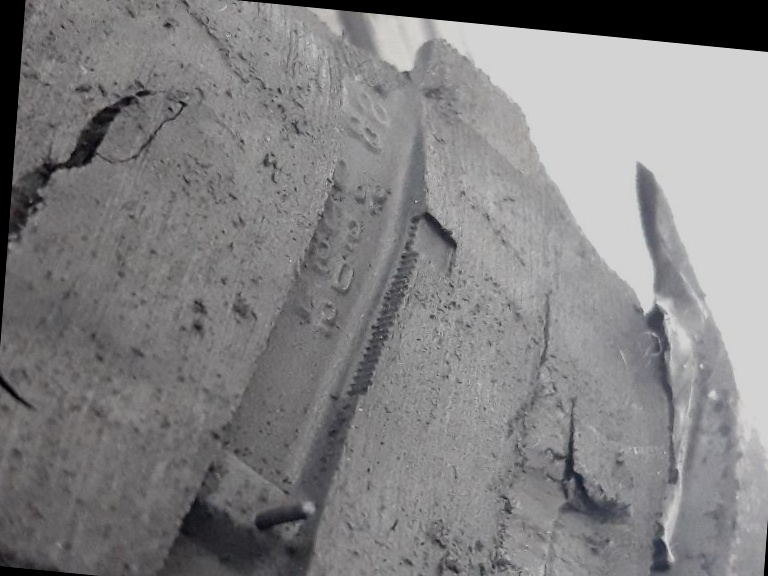temoin:25: (371, 197, 470, 321)
